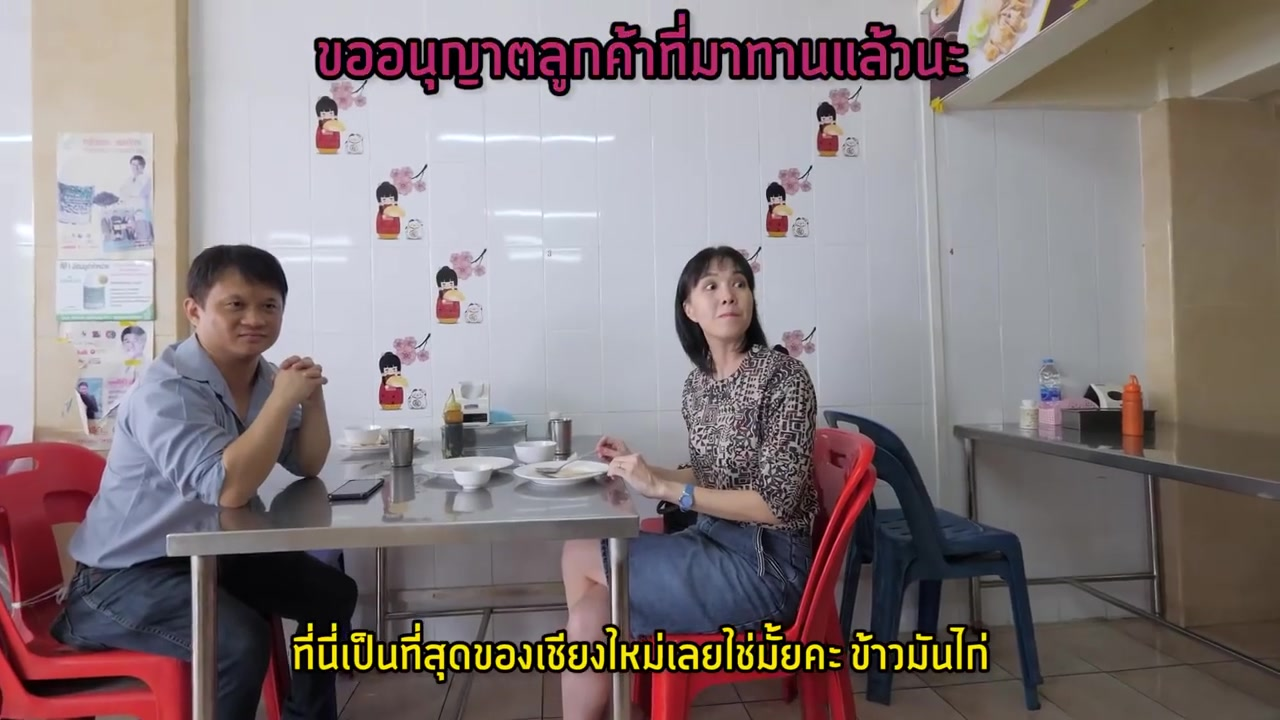text-label: (314, 7, 973, 99), (293, 615, 993, 684)
